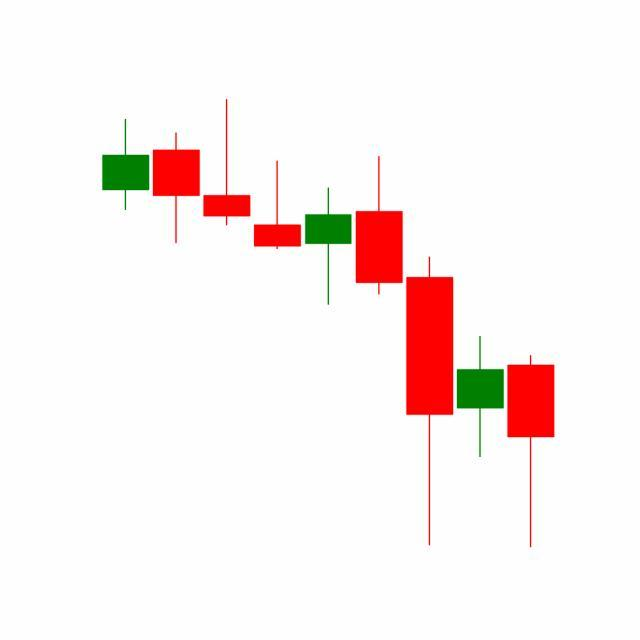Hikkake Pattern: (302, 152, 555, 549)
